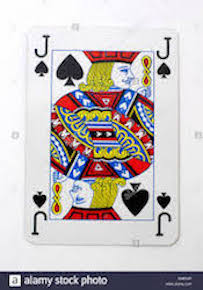JackOfSpades: (19, 20, 187, 249)
